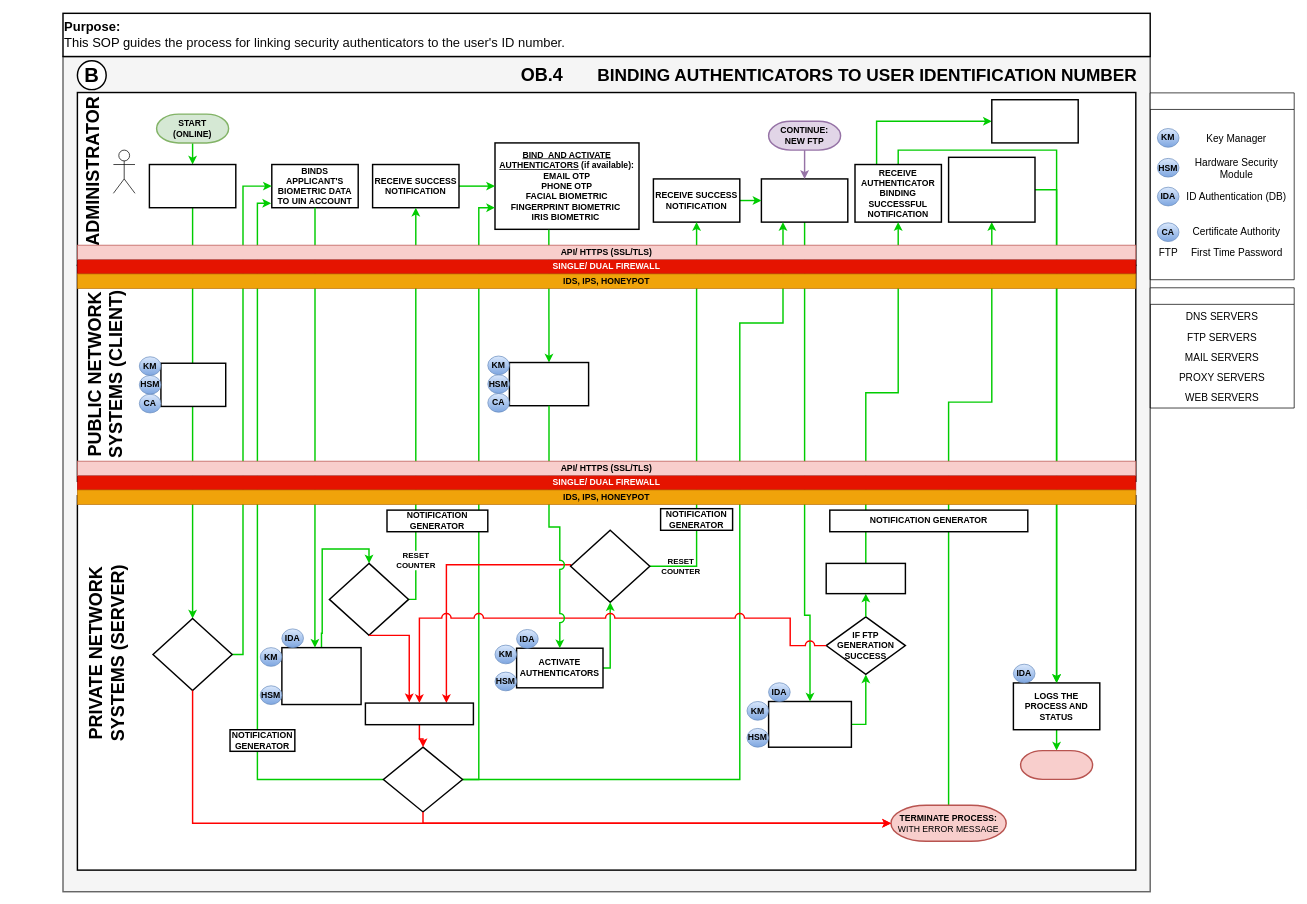
The diagram is 1307 pixels wide and 904 high, and some of its shapes have lost their labels. Each missing label, with the box of its shape:
ACTIVATE PASSWORD AUTHENTICATOR: (825, 562, 906, 594)
ADMIN: (113, 149, 135, 193)
DELIVER DID &FTP TO SUBSCRIBER A.4.4.3.C: (991, 99, 1079, 143)
END: (1020, 750, 1093, 780)
EXCEPTION AND ERROR HANDLING (COUNTER): (364, 702, 474, 725)
GENERATE 12 CHARACTER FTP AND ASSIGN TO DID ACCOUNT: (768, 700, 852, 748)
IF AUTHENTICAT- OR ACTIVATION SUCCESS: (570, 529, 650, 603)
IF BIOMETRIC STORAGE SUCCESS: (328, 562, 409, 636)
IF NEW DID ACCOUNT SUCCESS: (152, 617, 233, 691)
IF RETRY COUNT <=3: (382, 746, 463, 812)
INITIATE FTP FOR ACCOUNT ACTIVATION: (760, 178, 848, 222)
LEGEND: (1149, 92, 1294, 280)
MASK & ENCRYPT AUTHENTICATOR DETAILS: (508, 361, 589, 406)
MASK & ENCRYPT UIN NUMBER: (160, 362, 226, 407)
PUBLIC NETWORK: (1149, 287, 1294, 408)
RECEIVE AUTHENTICATOR BINDING FAILURE NOTIFICATION WITH ERROR MESSAGE: (948, 156, 1035, 222)
RECEIVE NEW DID ACCOUNT DETAILS WITH UIN: (148, 163, 236, 208)
STORE BIOMETRIC DATA WITH ENCRYPTED AND HASHED FORM: (281, 647, 361, 705)
